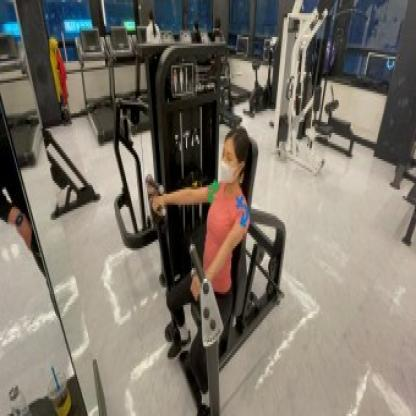Chest Press machine: (109, 42, 288, 412)
